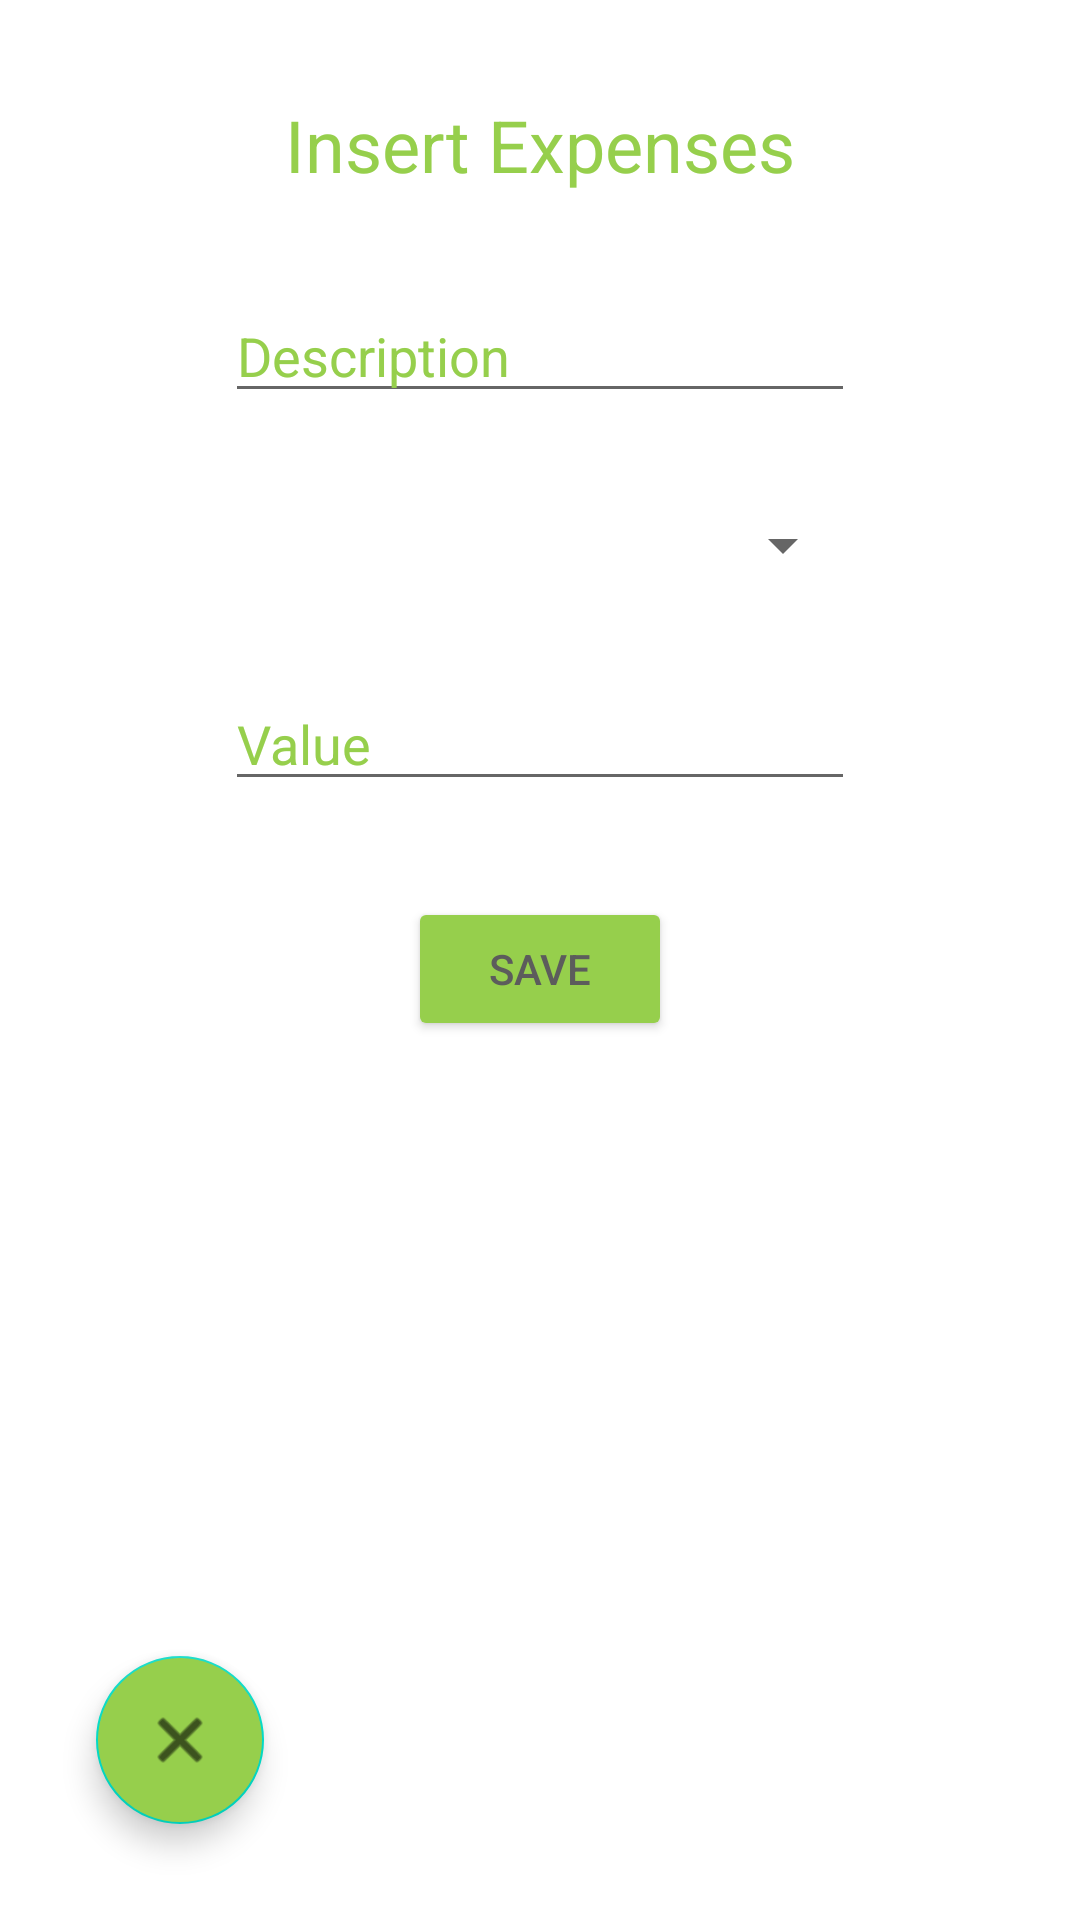

Screen size 1080w x 1920h. Icon name, then its box in pixels as {"left": x1, "top": y1, "right": x2, "bottom": y2}:
close clear cancel: {"left": 96, "top": 1656, "right": 264, "bottom": 1824}
